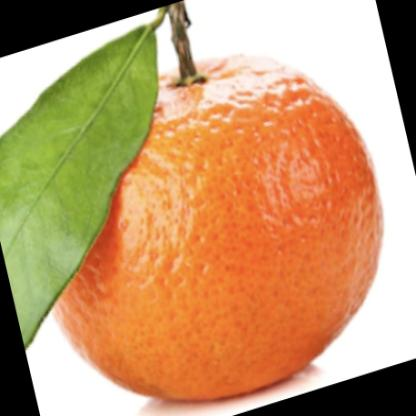fresh: (54, 60, 385, 401)
